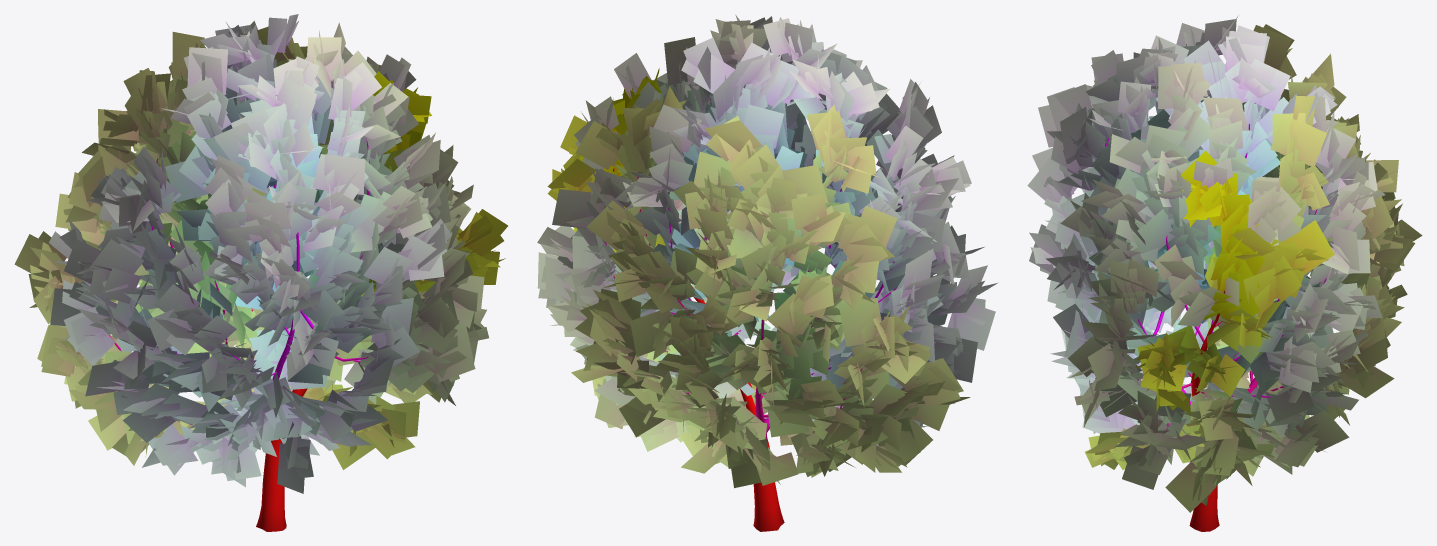
File: chinar_middle.glb
3 renders of one model, left to right at view 1: azimuth 30°, elevation 25°; view 2: azimuth 150°, elevation 25°; view 3: azimuth 270°, elevation 25°, orthographic.
Parts seen in each view (by area): view 1: chinar_middle; view 2: chinar_middle; view 3: chinar_middle.
Part boxes in pixels (x1,y1,x2,y2): chinar_middle: (14,14,507,531); chinar_middle: (537,14,998,531); chinar_middle: (1027,15,1422,531).
Bounding box in the file's own units: 16.65 × 18.42 × 13.51.
